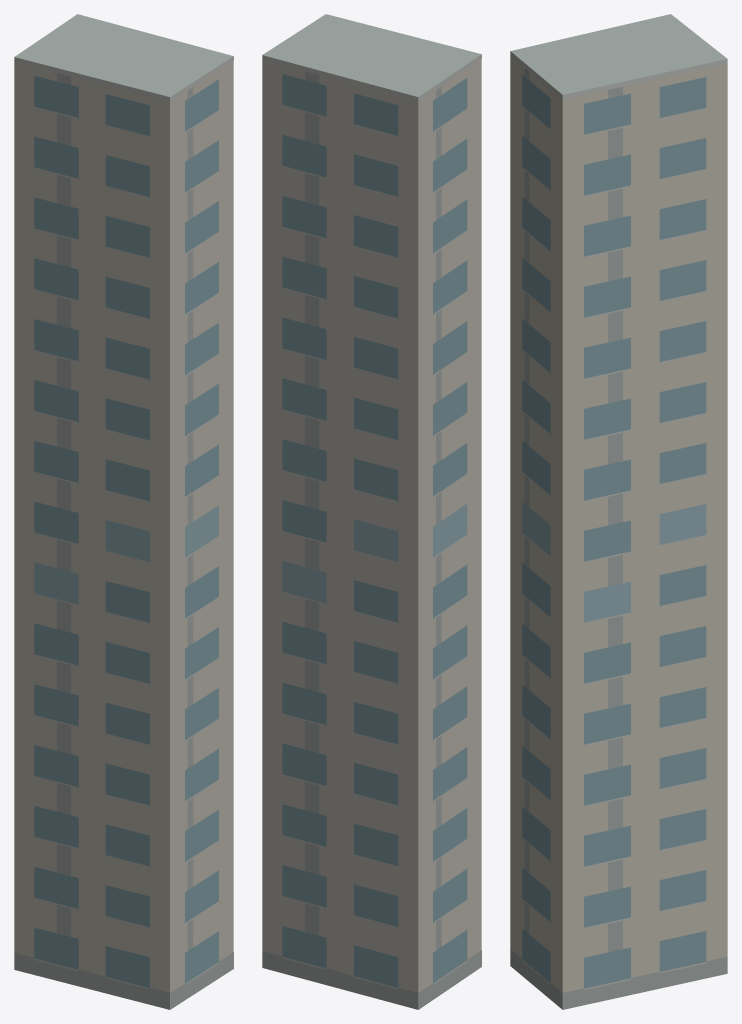
Rendered from survey-upis-32724940.glb.
The picture shows the model from 3 angles, left to right: view 1: azimuth 30°, elevation 25°; view 2: azimuth 210°, elevation 25°; view 3: azimuth 270°, elevation 25°; orthographic projection.
Visible parts, largest first — view 1: survey-upis-32724940.tmp; view 2: survey-upis-32724940.tmp; view 3: survey-upis-32724940.tmp.
Boxes of the visible parts, box(x1,y1,x2,y2) form: survey-upis-32724940.tmp: box(14, 14, 233, 1009); survey-upis-32724940.tmp: box(262, 14, 481, 1009); survey-upis-32724940.tmp: box(510, 14, 727, 1009).
Size of the model in its own units: 8.69 by 45.75 by 9.85.
